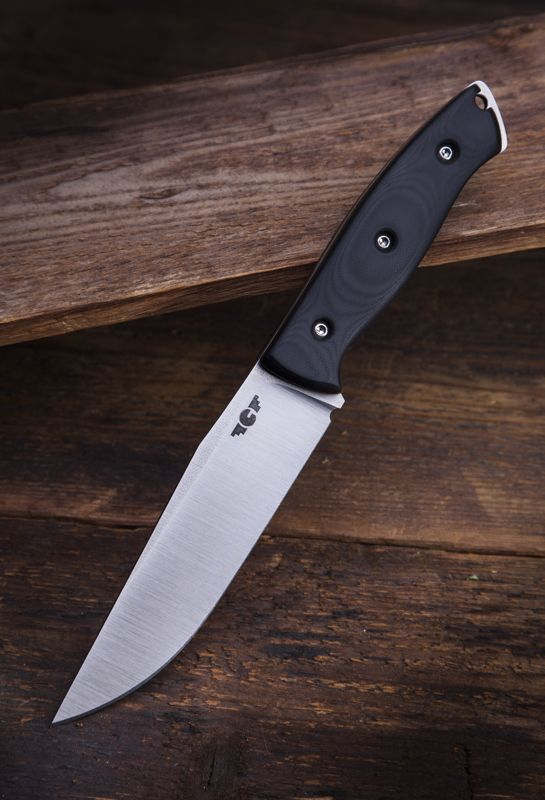knife: (38, 62, 513, 732)
